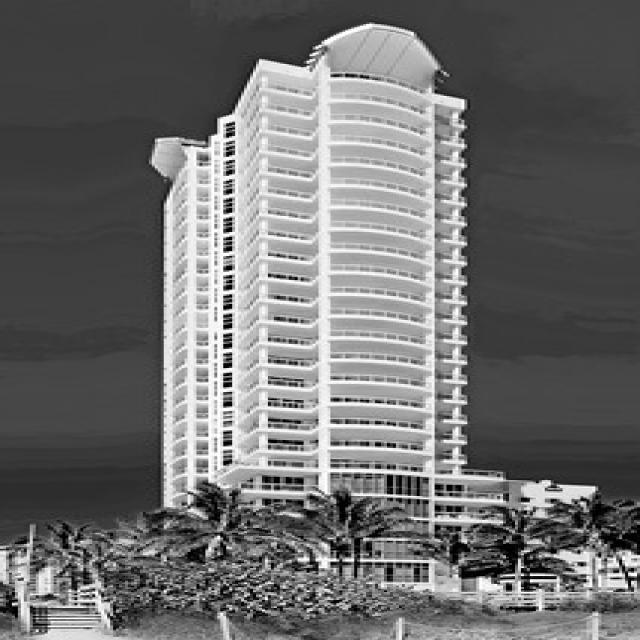Normal_building: (143, 16, 479, 552)
